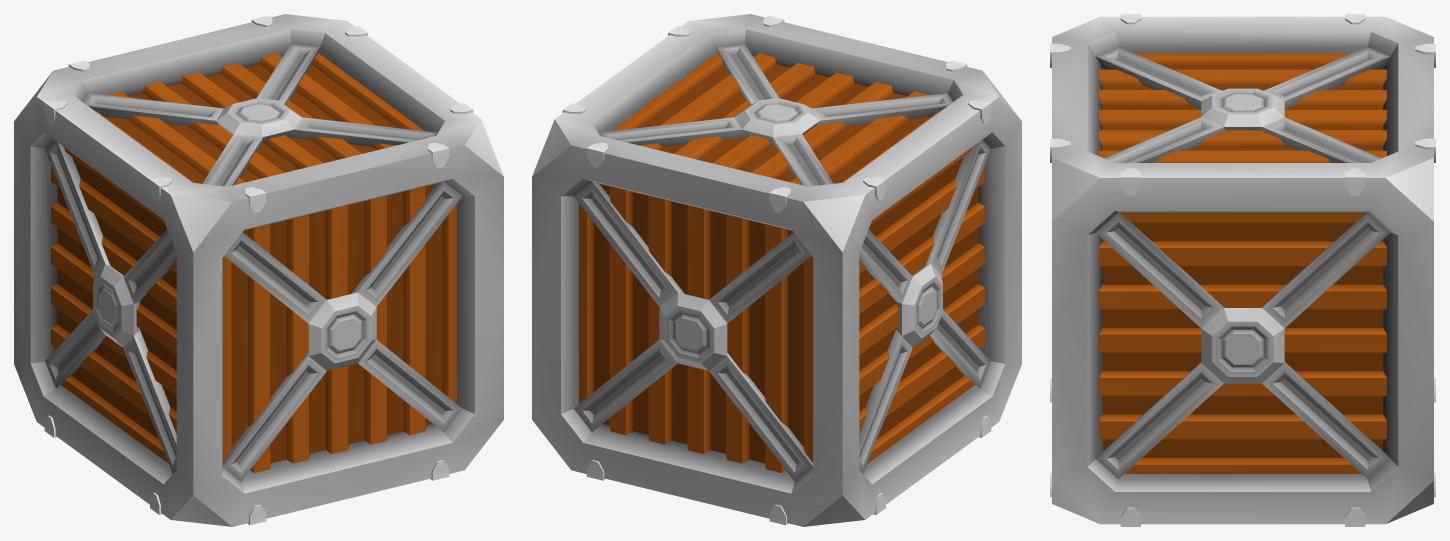
File: deco_crate_big.FBX
3 renders of one model, left to right at view 1: azimuth 30°, elevation 25°; view 2: azimuth 150°, elevation 25°; view 3: azimuth 270°, elevation 25°, orthographic. The views are drawn at different scales.
Visible parts, largest first — view 1: deco_crate_big; view 2: deco_crate_big; view 3: deco_crate_big.
Boxes of the visible parts, x1,y1,x2,y2 form: deco_crate_big: (14, 14, 503, 526); deco_crate_big: (532, 14, 1021, 526); deco_crate_big: (1050, 14, 1435, 526).
Size of the model in its own units: 1.01 by 1.01 by 1.01.
